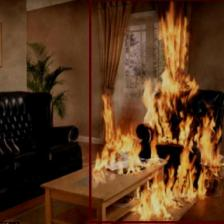fire: (89, 0, 224, 223)
